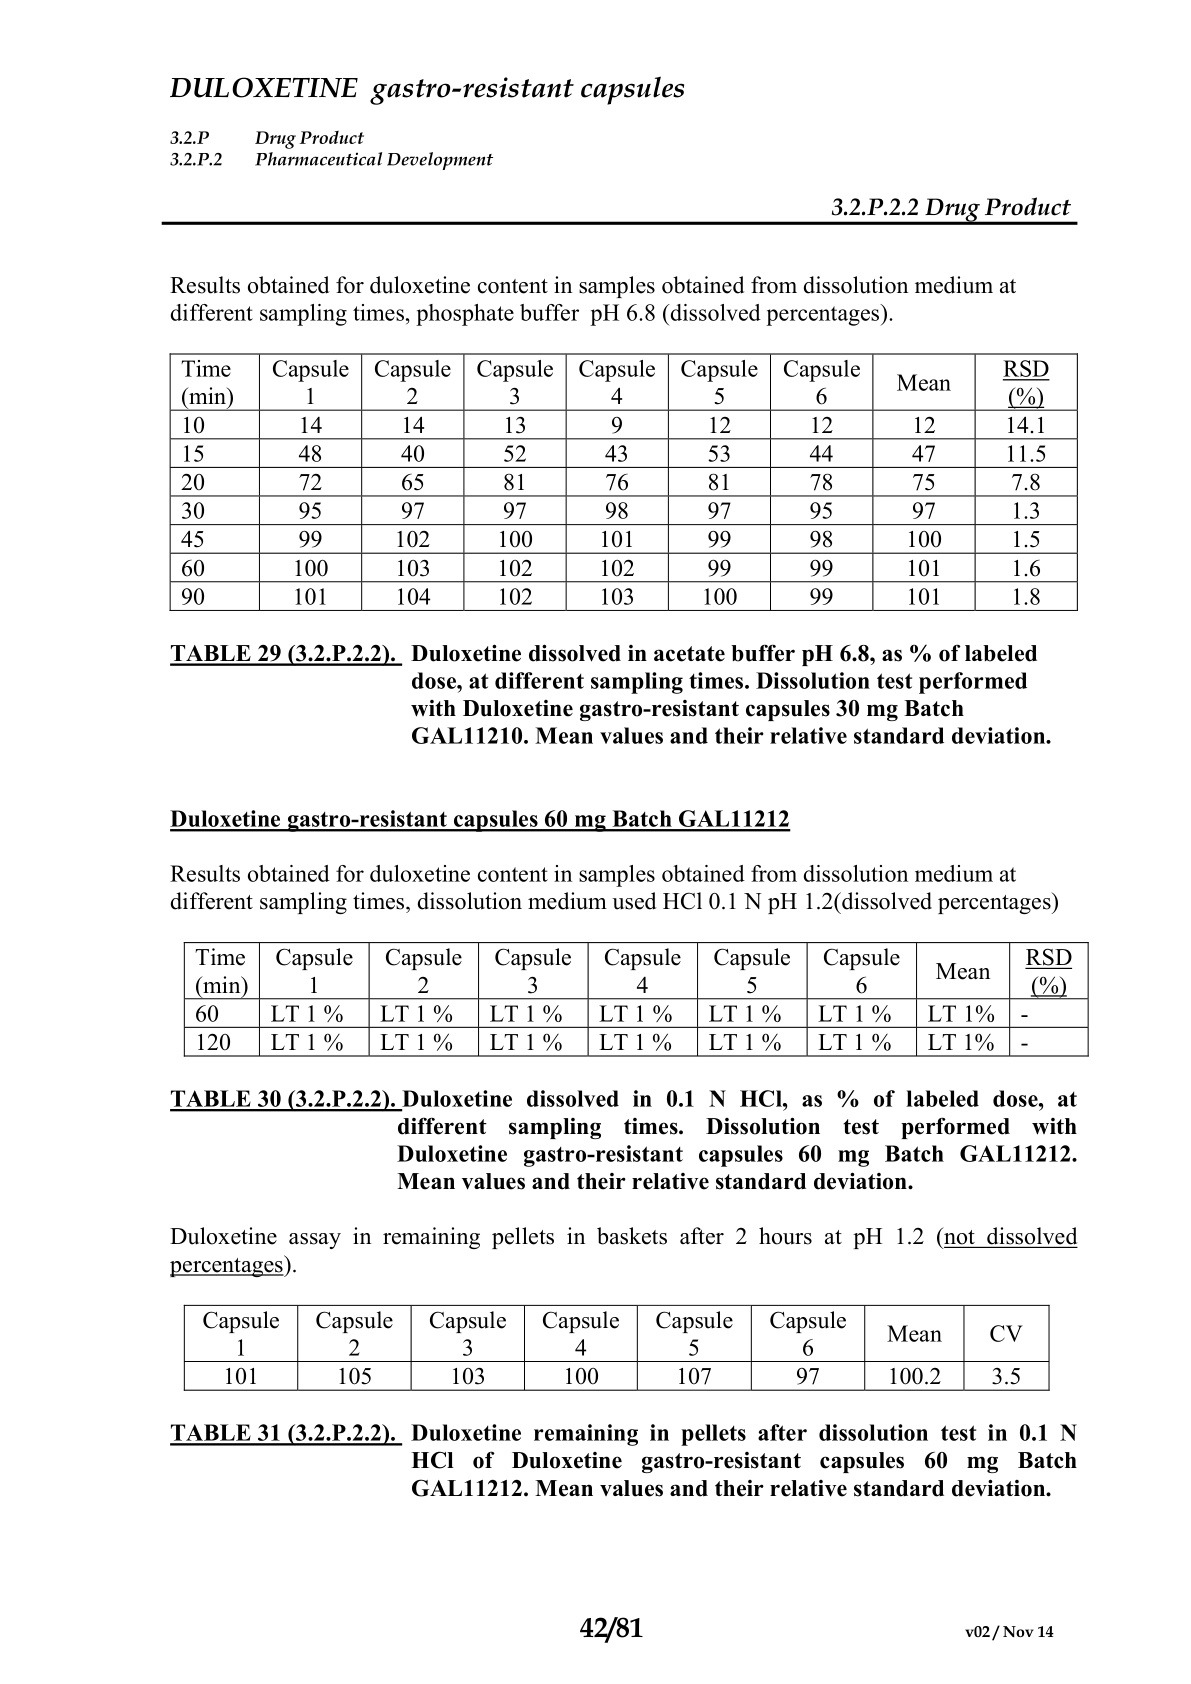full_lined: (159, 332, 1089, 622), (180, 933, 1094, 1068), (173, 1291, 1056, 1395)
